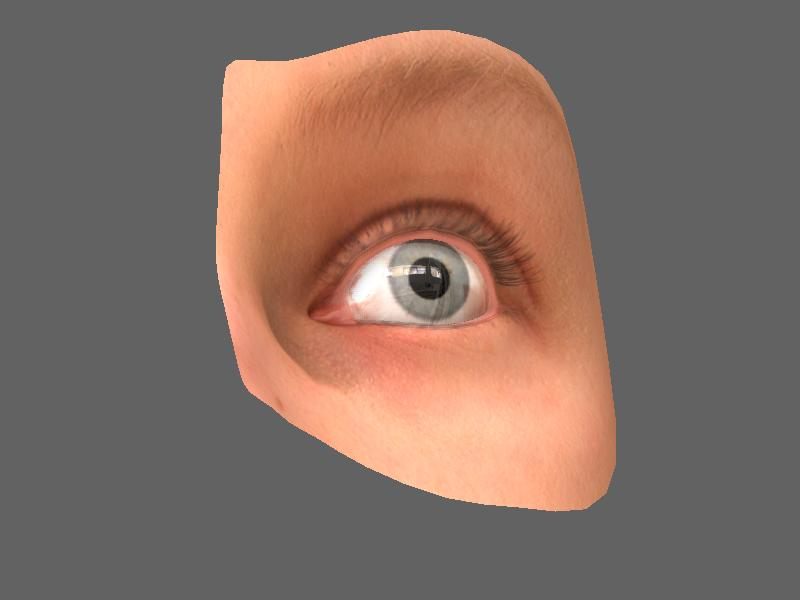iris: (385, 242, 479, 323)
